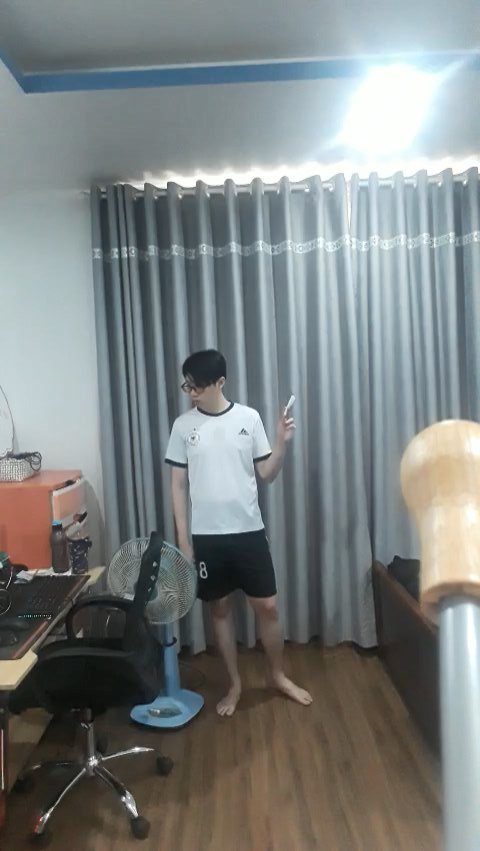cigarette: (283, 396, 294, 415)
person: (154, 337, 321, 716)
